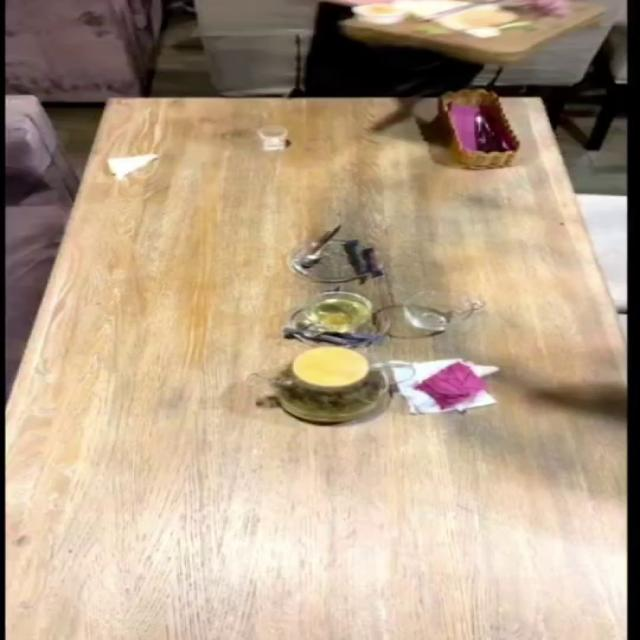tea: (267, 345, 391, 424)
